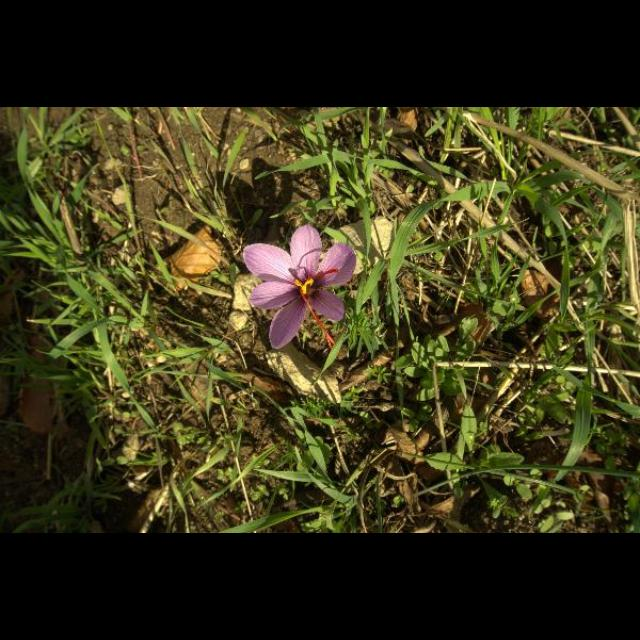flower: (242, 224, 358, 350)
